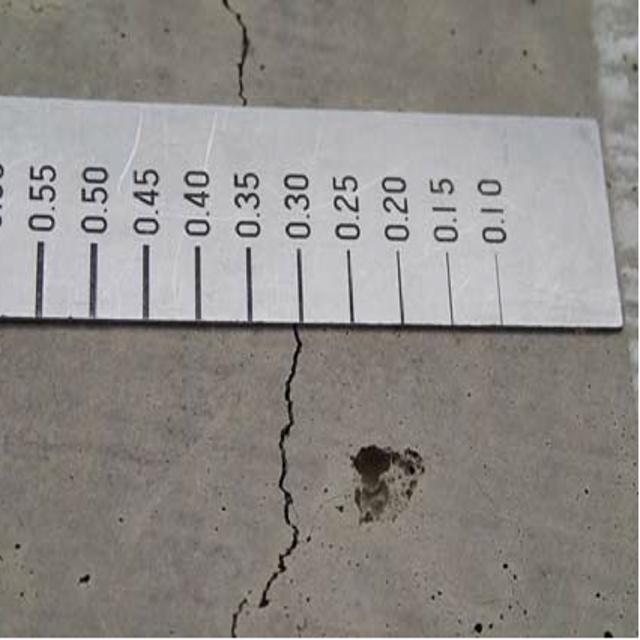crack: (181, 324, 326, 640), (201, 2, 283, 117)
